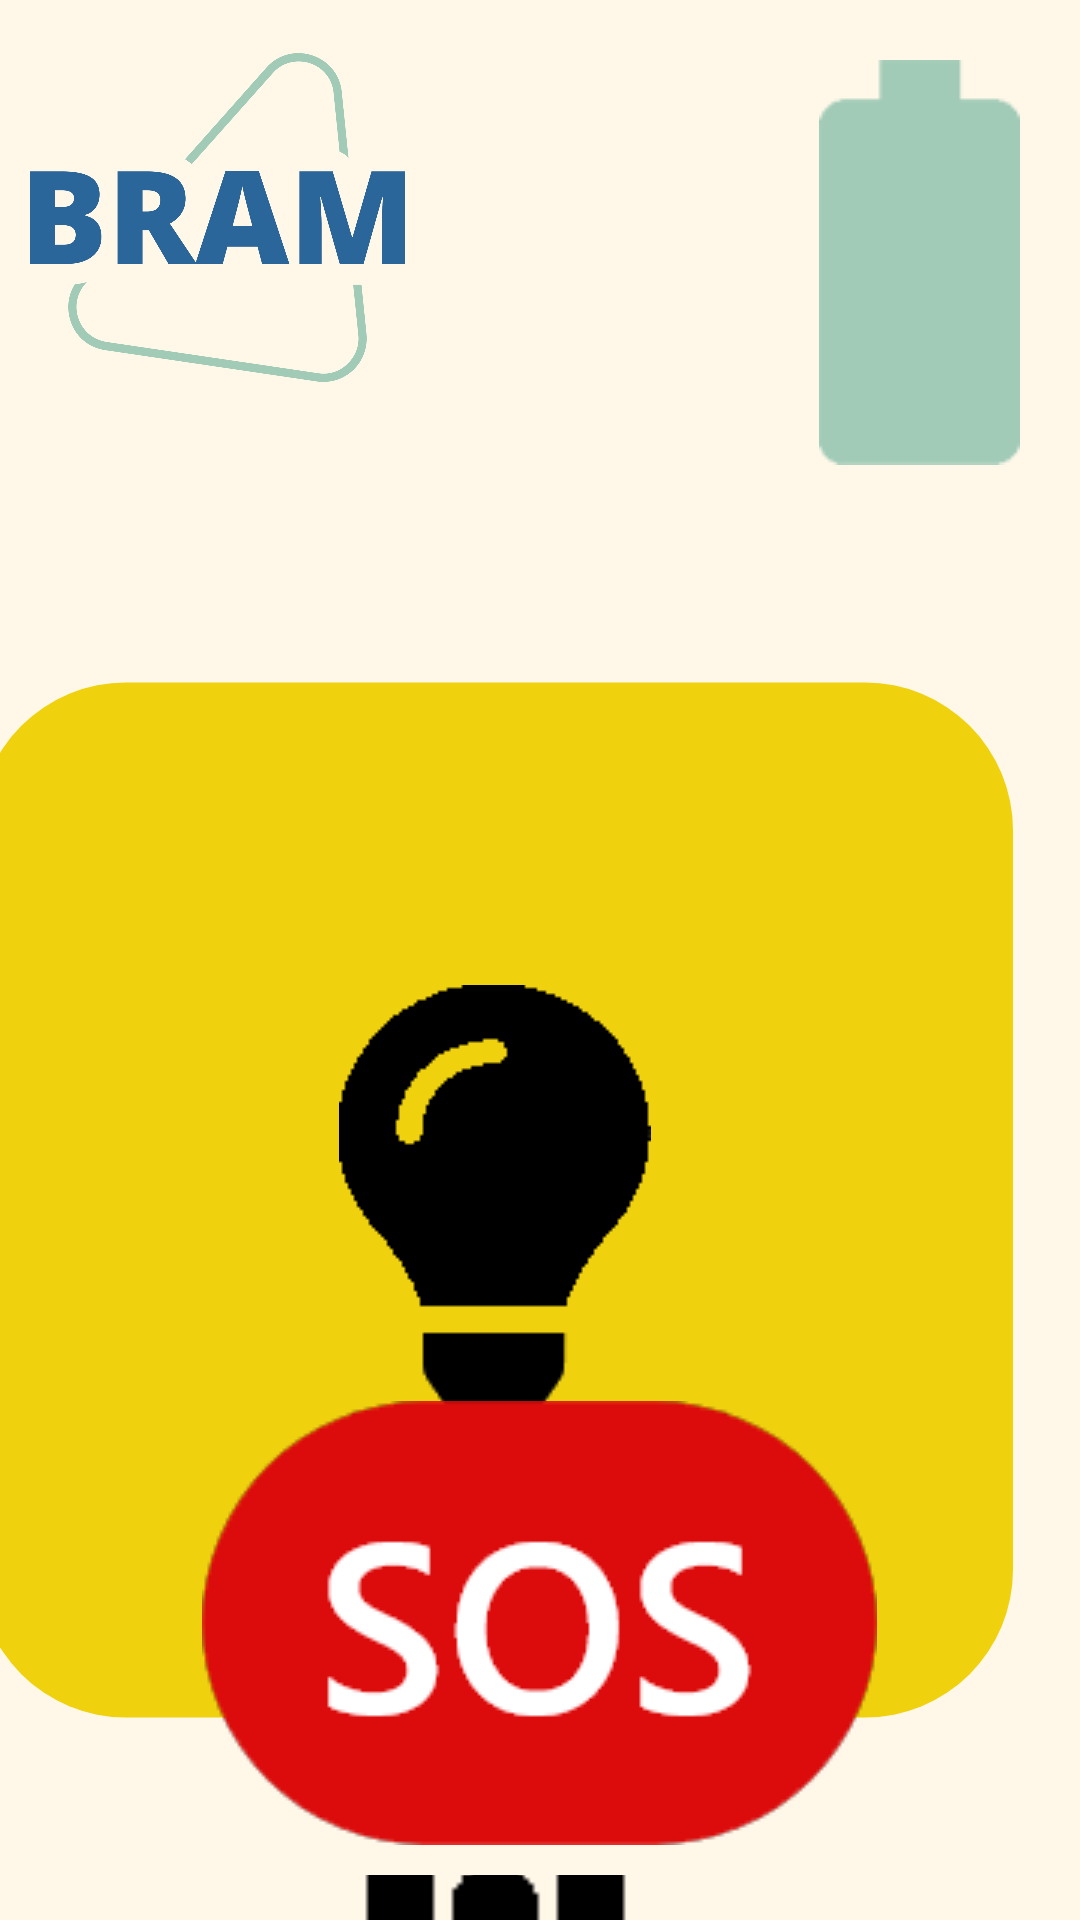

Where icons sit on this 1080 × 1920 app screen, as {"x1": x1, "y1": y1, "x2": x2, "y2": y2}:
lamp home: {"x1": 339, "y1": 985, "x2": 651, "y2": 1307}
